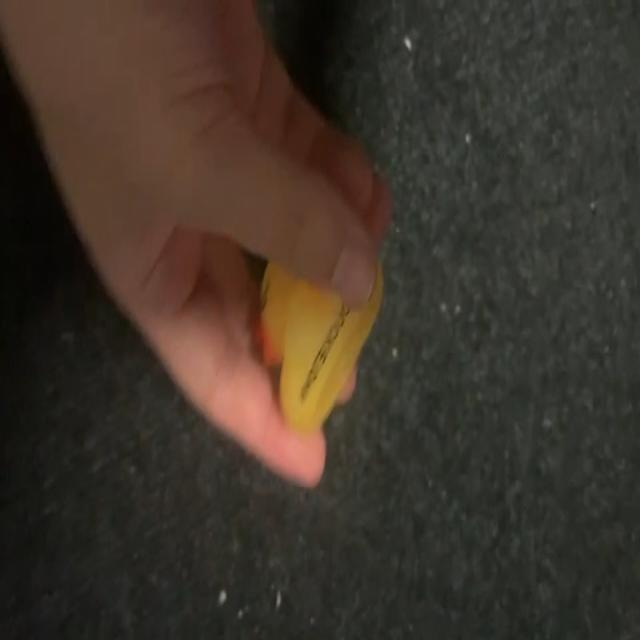rubber-duck: (260, 260, 381, 430)
